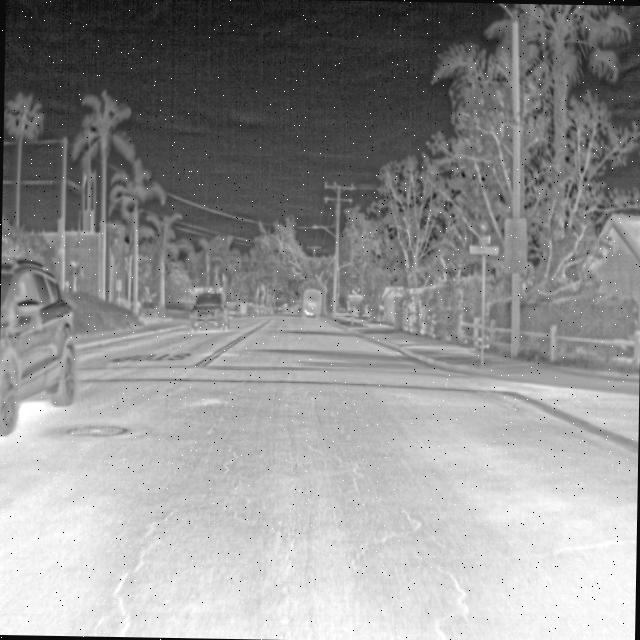Vehicle: (0, 251, 81, 438), (186, 290, 232, 333)
